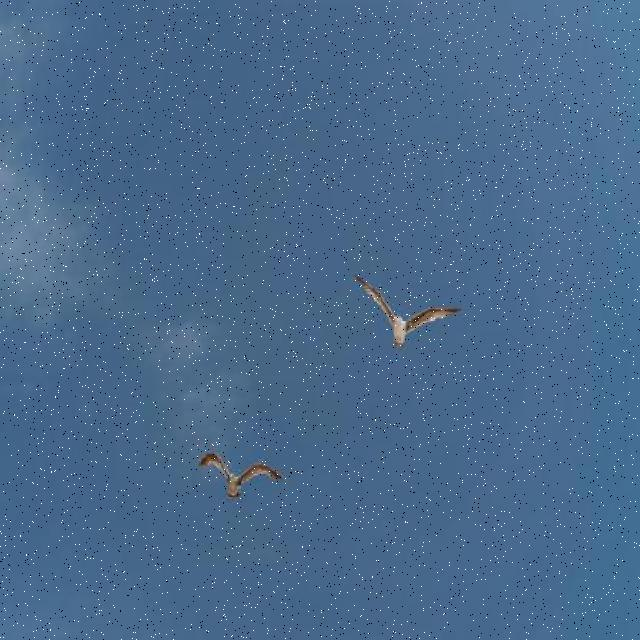bird: (354, 272, 462, 350), (196, 452, 284, 498)
